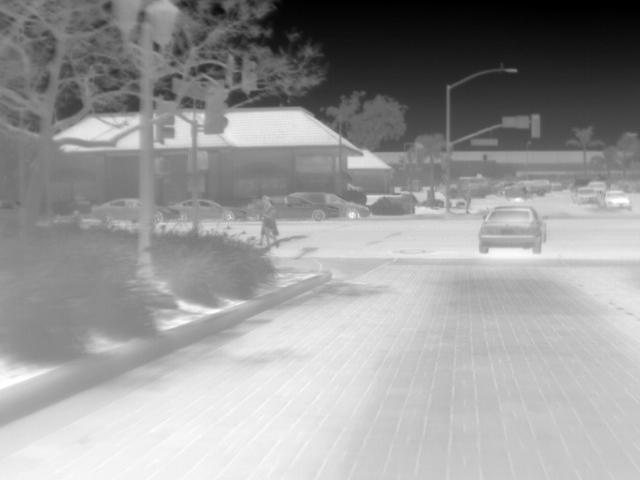car: (479, 205, 549, 254), (299, 190, 370, 220), (271, 194, 339, 223), (91, 197, 141, 227), (193, 198, 246, 220), (505, 176, 555, 196), (603, 188, 632, 210), (573, 188, 600, 206), (156, 205, 178, 226), (173, 199, 191, 220), (471, 184, 492, 200)
person: (259, 192, 280, 248), (463, 184, 474, 214)
